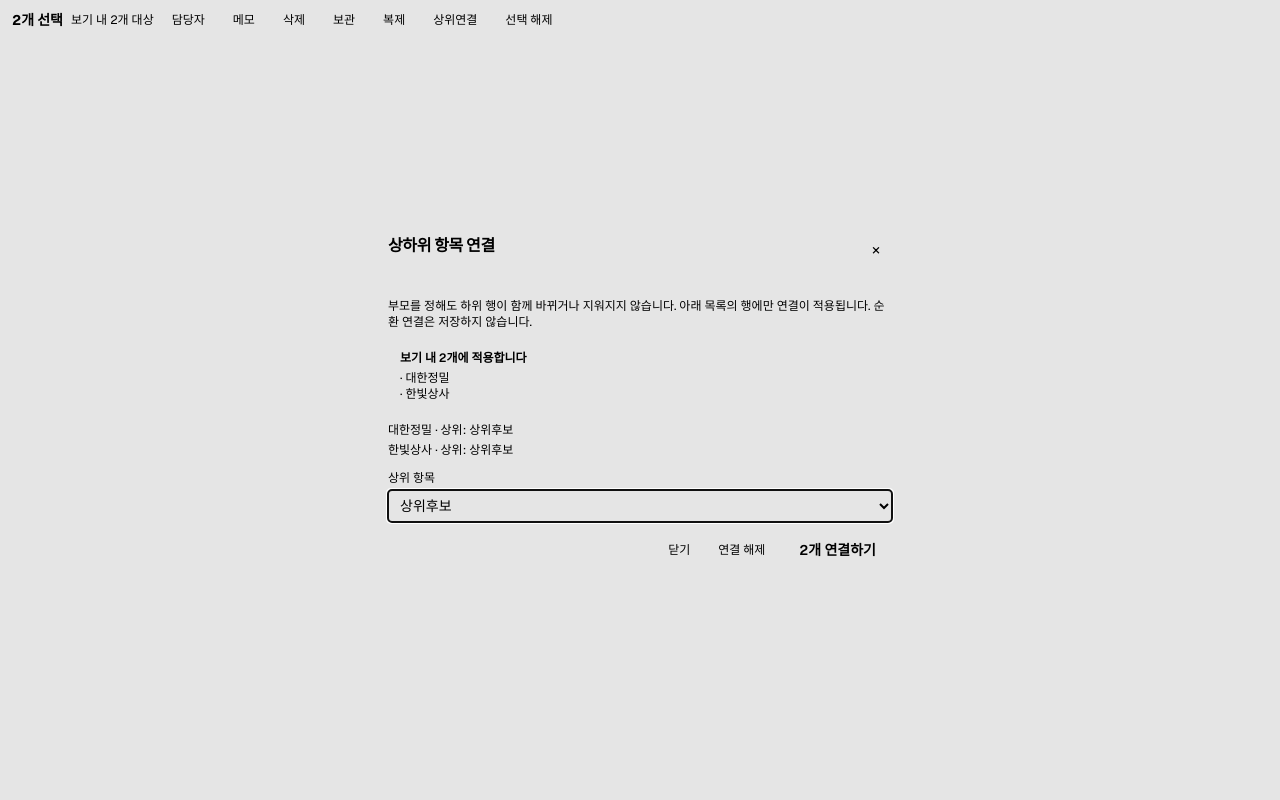
Test: preselects a shared visible parent and shows unlink success in the current relation
Expected: the dropdown named "상위 항목" shows "상위후보", [388,490,892,522]
Expected: the list named "현재 상위 연결" shows "상위후보", [469,422,513,438]
Click the button "연결 해제".
click(742, 550)  # box [708,534,775,566]
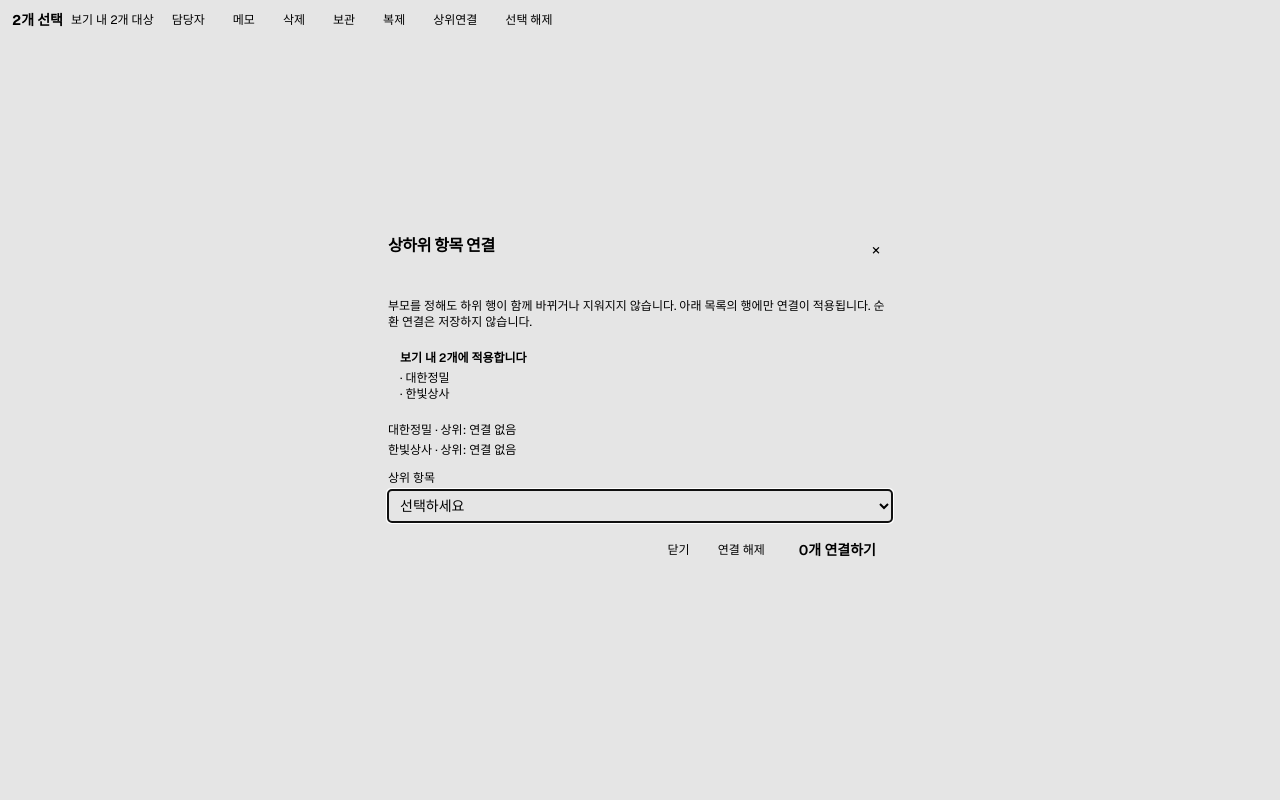
Result: the list item named "현재 상위 연결" no longer shows "상위후보"
Result: the list named "현재 상위 연결" shows "연결 없음" at [469,422,516,438]
